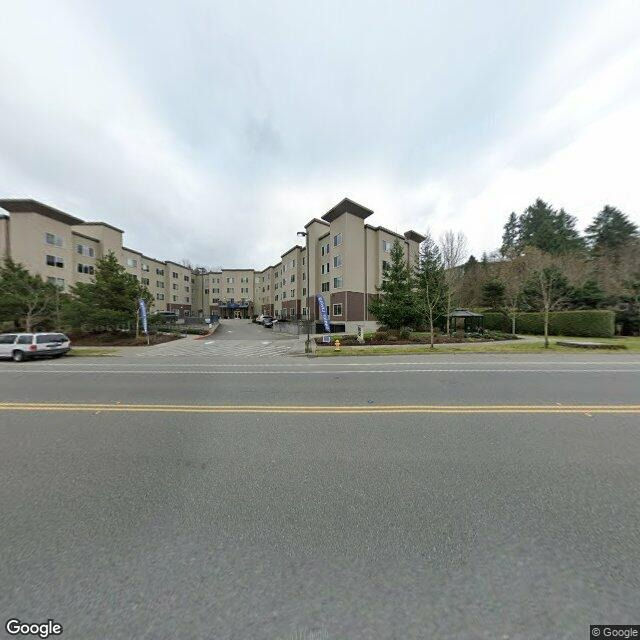hydrant: (332, 339, 342, 349)
